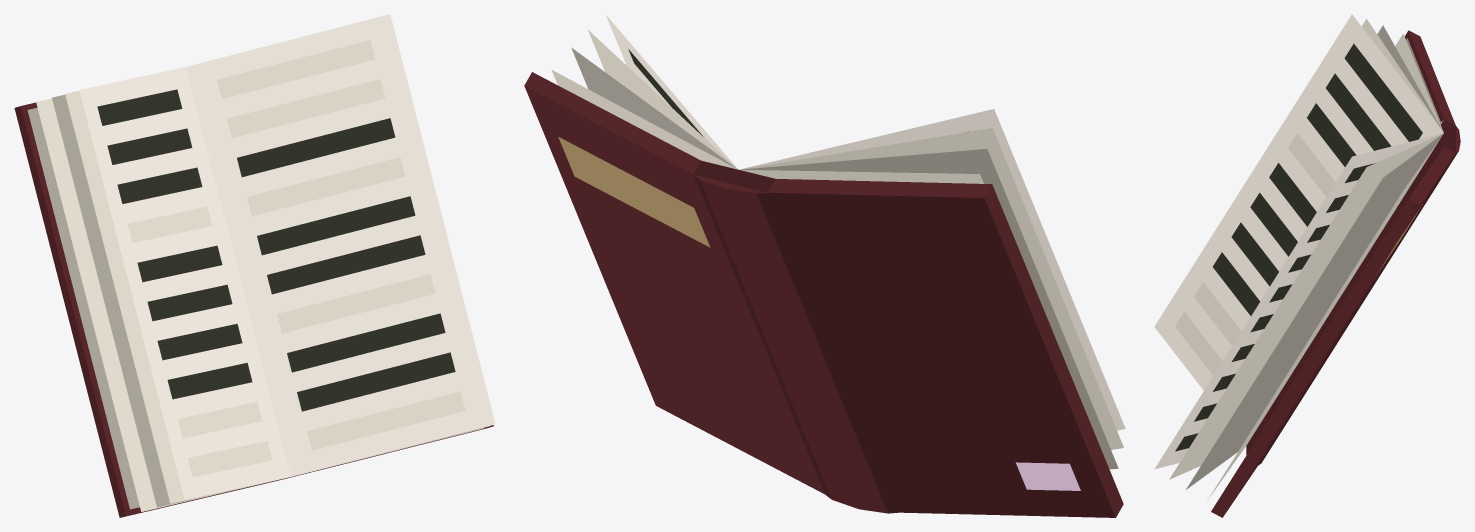
The model's file is Book.glb.
3 renders of one model, left to right at view 1: azimuth 30°, elevation 25°; view 2: azimuth 150°, elevation 25°; view 3: azimuth 270°, elevation 25°, orthographic. The views are drawn at different scales.
Parts seen in each view (by area): view 1: Cube; view 2: Cube; view 3: Cube.
Boxes of the visible parts, left/top/right/bottom form: Cube: left=14, top=14, right=495, bottom=517; Cube: left=524, top=14, right=1125, bottom=517; Cube: left=1154, top=14, right=1460, bottom=517.
Bounding box in the file's own units: 1.23 × 1.25 × 0.9435.
